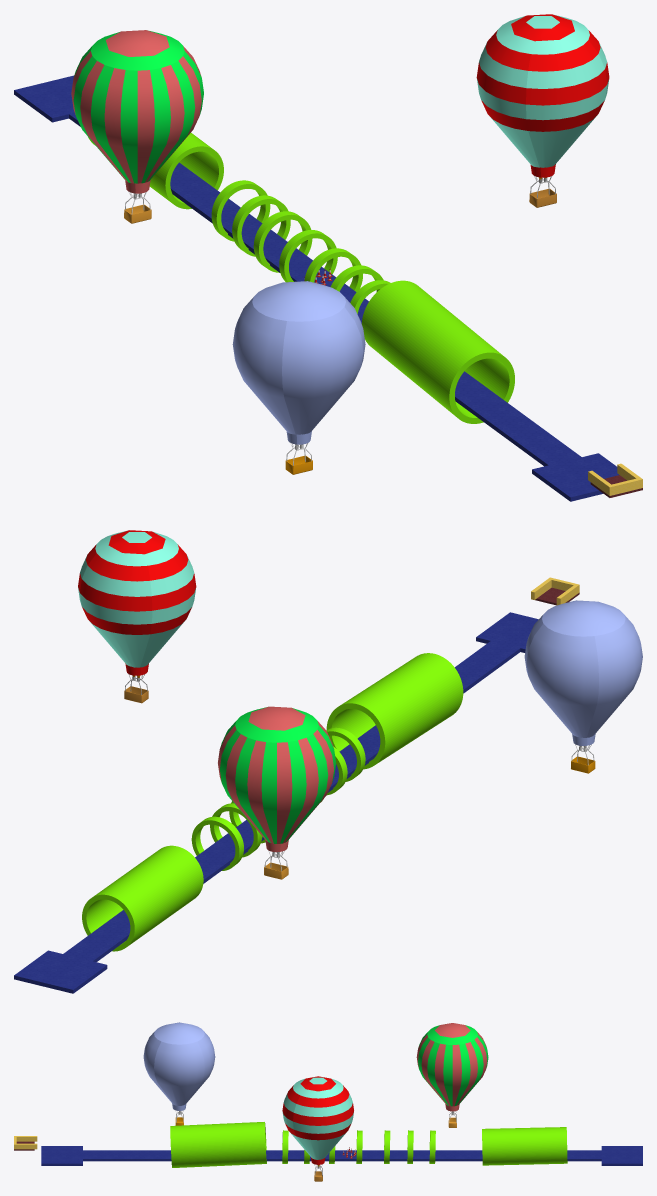
File: LEVEL 1.fbx
3 views of the same model, one above another, from view 1: azimuth 30°, elevation 25°; view 2: azimuth 150°, elevation 25°; view 3: azimuth 270°, elevation 25° (orthographic). The views are drawn at different scales.
Parts seen in each view (by area): view 1: baloon_2, baloon_1, baloon, ramp, _Color_I04___9_, _Color_I04___6_, yellow, blue, red, green, brown; view 2: baloon_1, baloon, baloon_2, ramp, _Color_I04___9_, _Color_I04___6_, red; view 3: ramp, baloon_2, baloon, baloon_1, _Color_I04___9_, _Color_I04___6_.
Boxes of the visible parts, <box> form: baloon_2: <box>476,14,609,207</box>; baloon_1: <box>232,281,365,474</box>; baloon: <box>71,30,203,223</box>; ramp: <box>14,75,618,501</box>; _Color_I04___9_: <box>361,280,514,423</box>; _Color_I04___6_: <box>88,133,223,209</box>; yellow: <box>232,195,290,256</box>; blue: <box>253,211,312,272</box>; red: <box>211,180,270,241</box>; green: <box>279,230,337,282</box>; brown: <box>304,248,362,291</box>; baloon_1: <box>524,600,642,773</box>; baloon: <box>218,706,335,879</box>; baloon_2: <box>78,530,196,703</box>; ramp: <box>14,612,538,993</box>; _Color_I04___9_: <box>326,653,463,769</box>; _Color_I04___6_: <box>82,845,203,951</box>; red: <box>191,816,243,870</box>; ramp: <box>41,1146,642,1165</box>; baloon_2: <box>282,1076,353,1181</box>; baloon: <box>416,1023,488,1127</box>; baloon_1: <box>143,1022,215,1125</box>; _Color_I04___9_: <box>170,1122,266,1167</box>; _Color_I04___6_: <box>482,1127,567,1165</box>.
Size of the model in its own units: 5866 by 3037 by 12129.
19 materials, 4 textured.
